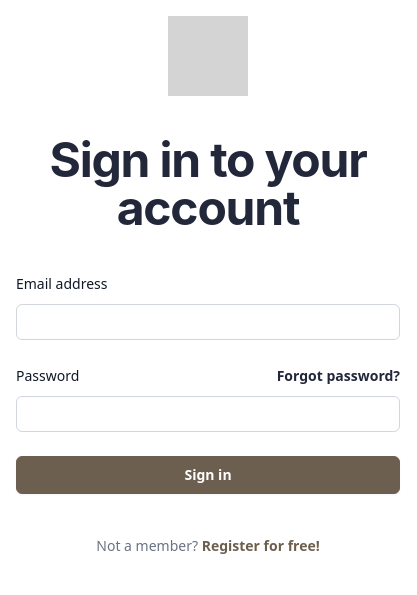
Test: SignIn Component › shows required error for empty email
Type "validpassword" into the password field labelled "Password" at (208, 414), box [16,396,400,432]
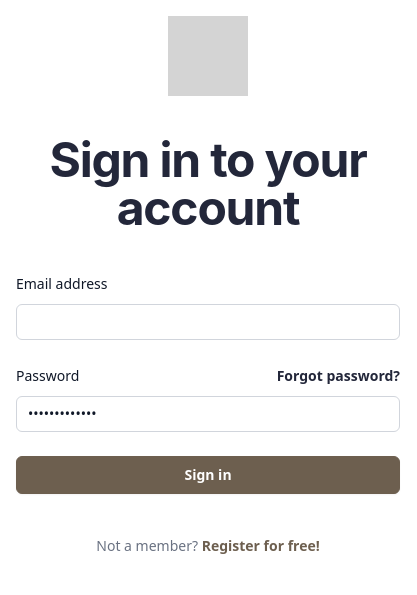
Click the button "Sign in" at (208, 475), box [16,456,400,494]
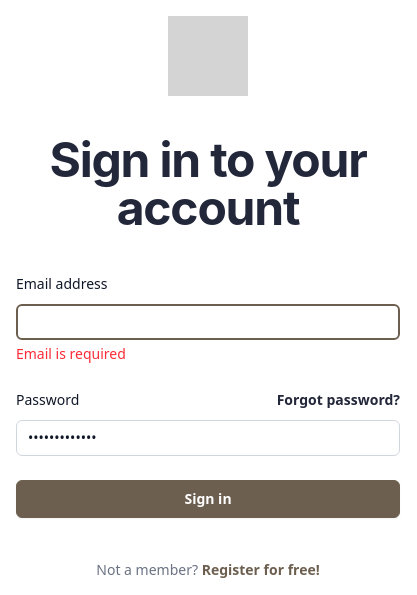
Expected: the text "Email is required" is shown, [16,344,126,363]
